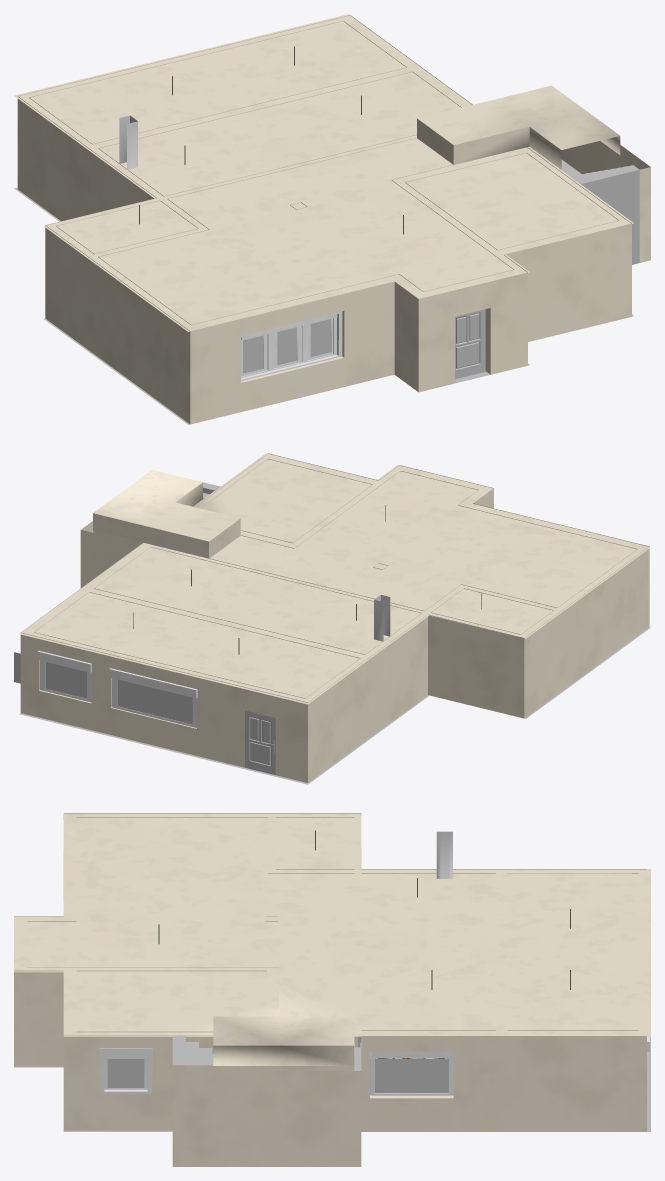
File: CasaSin texturas 1.fbx
3 views of the same model, one above another, from view 1: azimuth 30°, elevation 25°; view 2: azimuth 150°, elevation 25°; view 3: azimuth 270°, elevation 25° (orthographic). The views are drawn at different scales.
Parts seen in each view (by area): view 1: suelo.001, paredes, suelo, PuertaPrincipal.006, VentanaComedor.001, VentanaComedor.003, VentanaComedor.004, VentanaComedor.002, Campana; view 2: suelo.001, paredes, Plane.002, PuertaPrincipal.003, ventana, Plane.003, suelo, ventana.001, Campana; view 3: suelo.001, paredes, Plane.004, suelo, VentanaComedor, VentanaComedor.006, Plane.005, Campana.
Part boxes in pixels (x1=…): suelo.001: x1=14, y1=14, x2=633, y2=331; paredes: x1=17, y1=15, x2=650, y2=424; suelo: x1=14, y1=159, x2=639, y2=424; PuertaPrincipal.006: x1=455, y1=309, x2=485, y2=379; VentanaComedor.001: x1=241, y1=311, x2=342, y2=380; VentanaComedor.003: x1=273, y1=326, x2=302, y2=368; VentanaComedor.004: x1=241, y1=334, x2=267, y2=376; VentanaComedor.002: x1=307, y1=318, x2=333, y2=360; Campana: x1=119, y1=115, x2=137, y2=169; suelo.001: x1=19, y1=453, x2=650, y2=704; paredes: x1=20, y1=453, x2=649, y2=782; Plane.002: x1=117, y1=679, x2=192, y2=724; PuertaPrincipal.003: x1=245, y1=710, x2=275, y2=774; ventana: x1=109, y1=668, x2=197, y2=727; Plane.003: x1=14, y1=652, x2=86, y2=698; suelo: x1=19, y1=482, x2=650, y2=784; ventana.001: x1=37, y1=650, x2=91, y2=702; Campana: x1=374, y1=595, x2=390, y2=641; suelo.001: x1=14, y1=813, x2=650, y2=1066; paredes: x1=14, y1=813, x2=646, y2=1166; Plane.004: x1=370, y1=1059, x2=448, y2=1094; suelo: x1=14, y1=1036, x2=650, y2=1131; VentanaComedor: x1=99, y1=1048, x2=152, y2=1093; VentanaComedor.006: x1=370, y1=1051, x2=453, y2=1095; Plane.005: x1=107, y1=1059, x2=144, y2=1088; Campana: x1=436, y1=831, x2=452, y2=878.
Bounding box in the file's own units: 8248 × 2154 × 8590.
